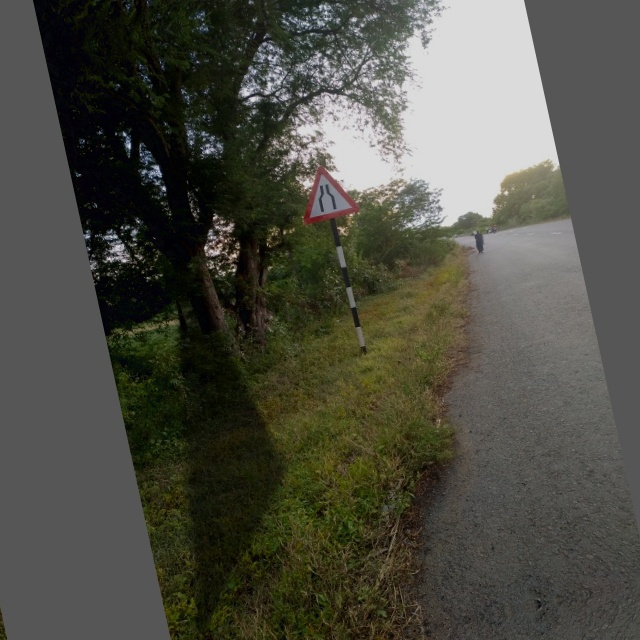Narrow_Road_Ahead: (290, 157, 358, 225)
